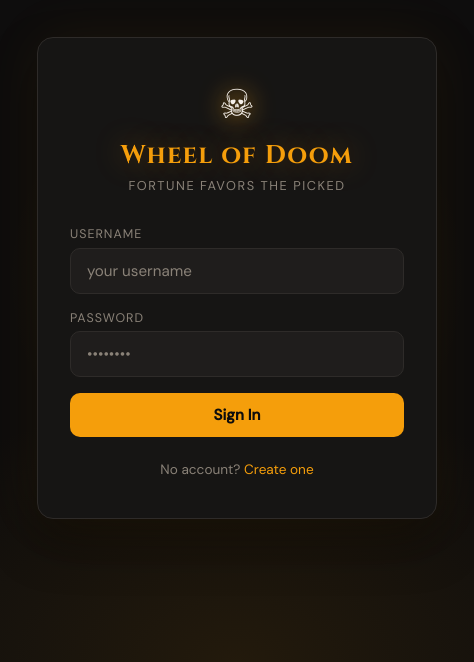
Test: LoginPage › shows an error when login fails
This screenshot has width=474, height=662.
Type "alice" into the field with placeholder "your username" at (237, 270), box left=70, top=248, right=404, bottom=294
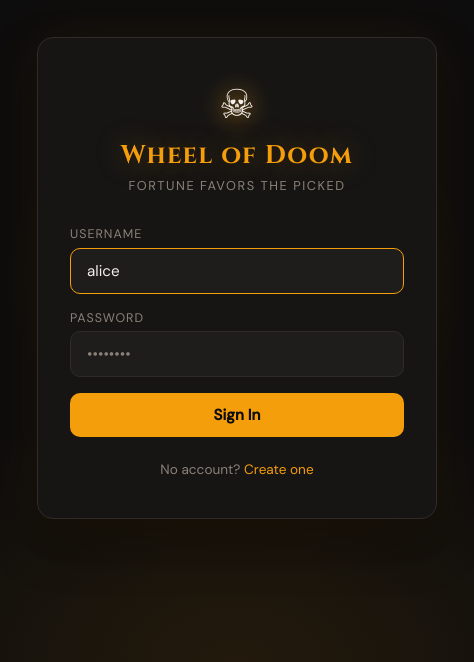
Type "wrong-pass" into the password field with placeholder "••••••••" at (237, 354), box left=70, top=331, right=404, bottom=377
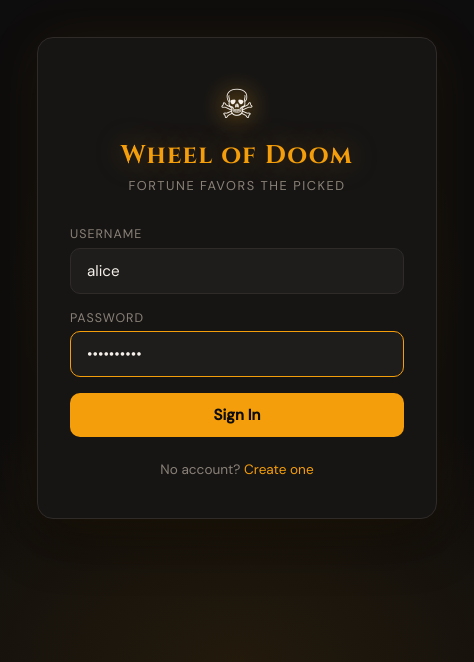
Click the button "Sign In" at (237, 415), box left=70, top=393, right=404, bottom=437
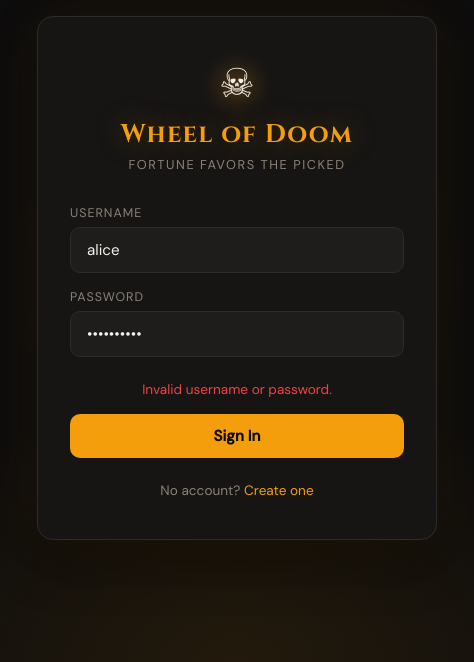
Check: the text "Invalid username or password." is shown, box left=142, top=381, right=332, bottom=398
